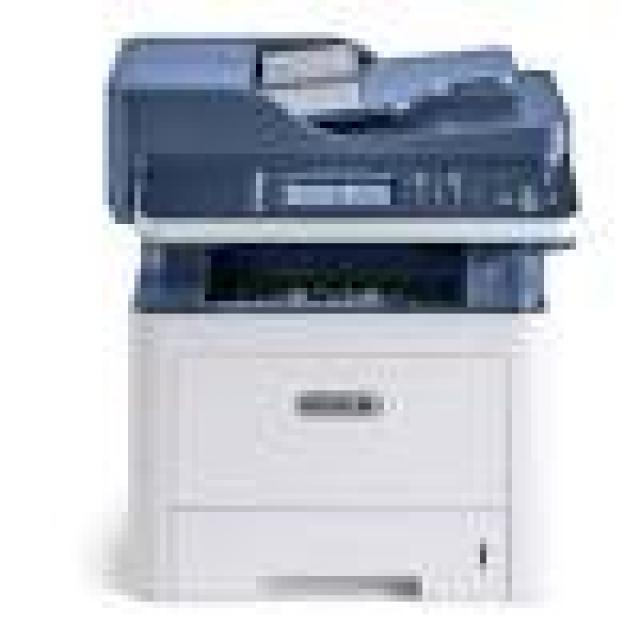printer: (86, 20, 599, 611)
